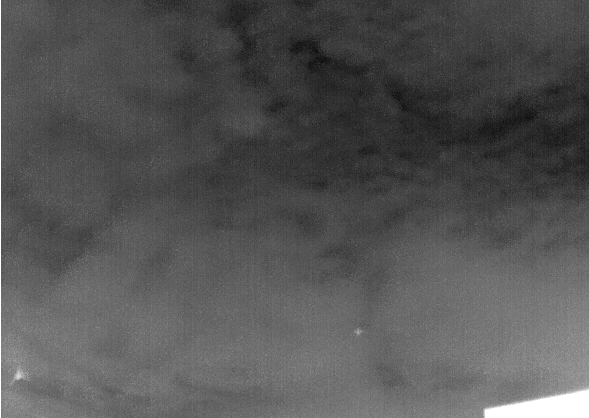dim target: (7, 365, 30, 387), (353, 327, 363, 336)
